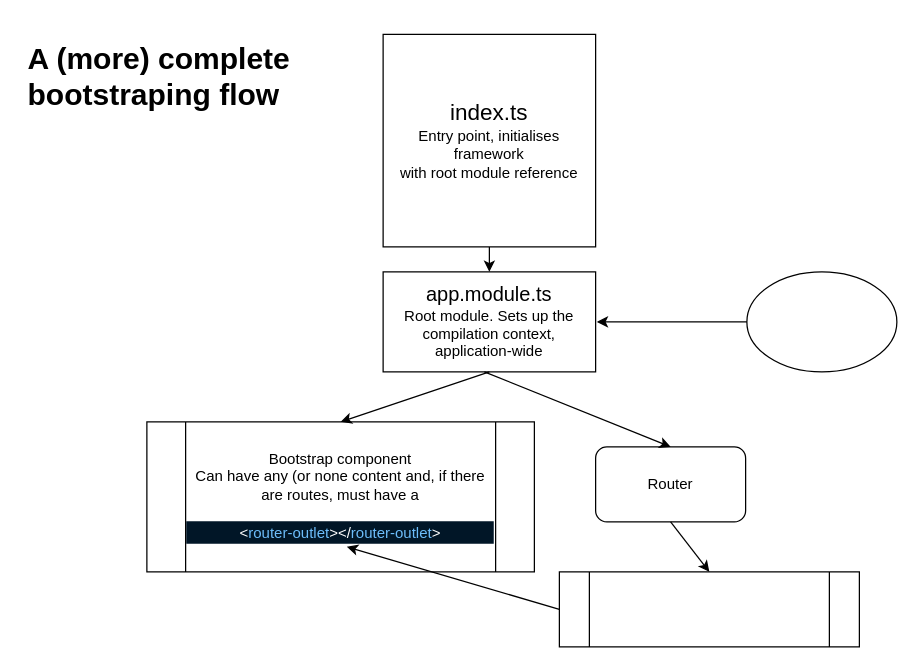
Some shapes in this 919 by 669 pixel diagram are drawn without their labels. Here are the shapes that lost their labels. From the top down, the box of each, then its label:
(746, 271, 897, 372): Other modules
(558, 571, 859, 647): Resolved Component (or module->router->component)
